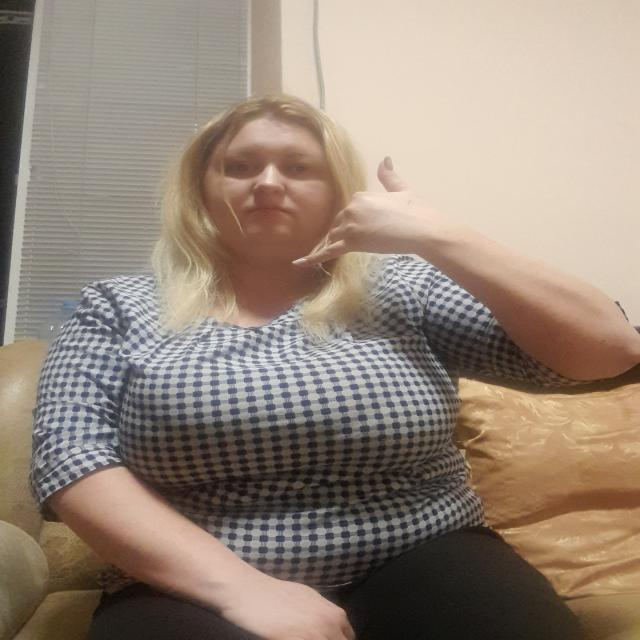call: (288, 155, 439, 272)
